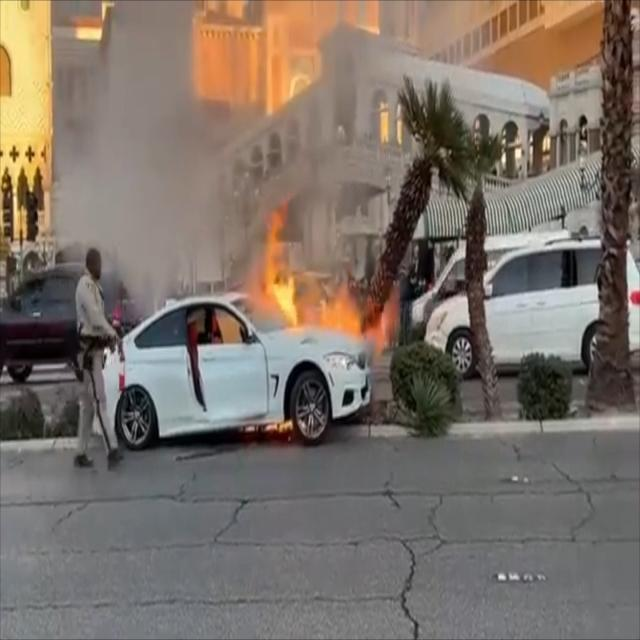fire: (251, 189, 398, 351)
